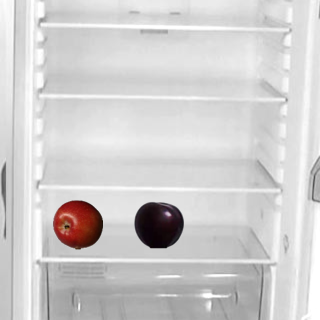Apple Braeburn: (52, 199, 102, 249)
Cherry Wax Black: (133, 199, 183, 249)
